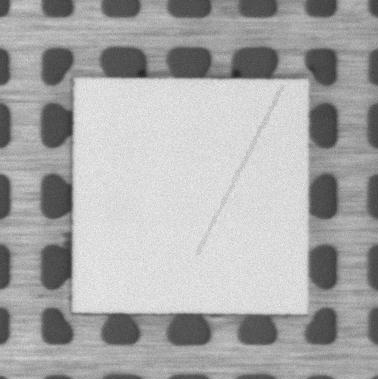DIE_CRACK: (196, 86, 282, 255)
